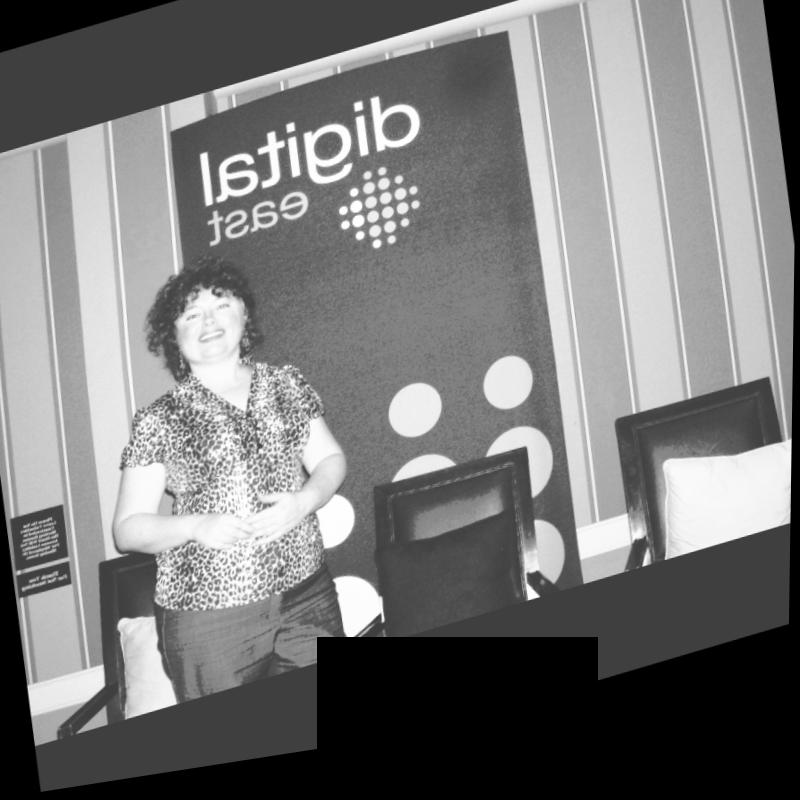pillow: (633, 437, 794, 586), (112, 612, 187, 725)
